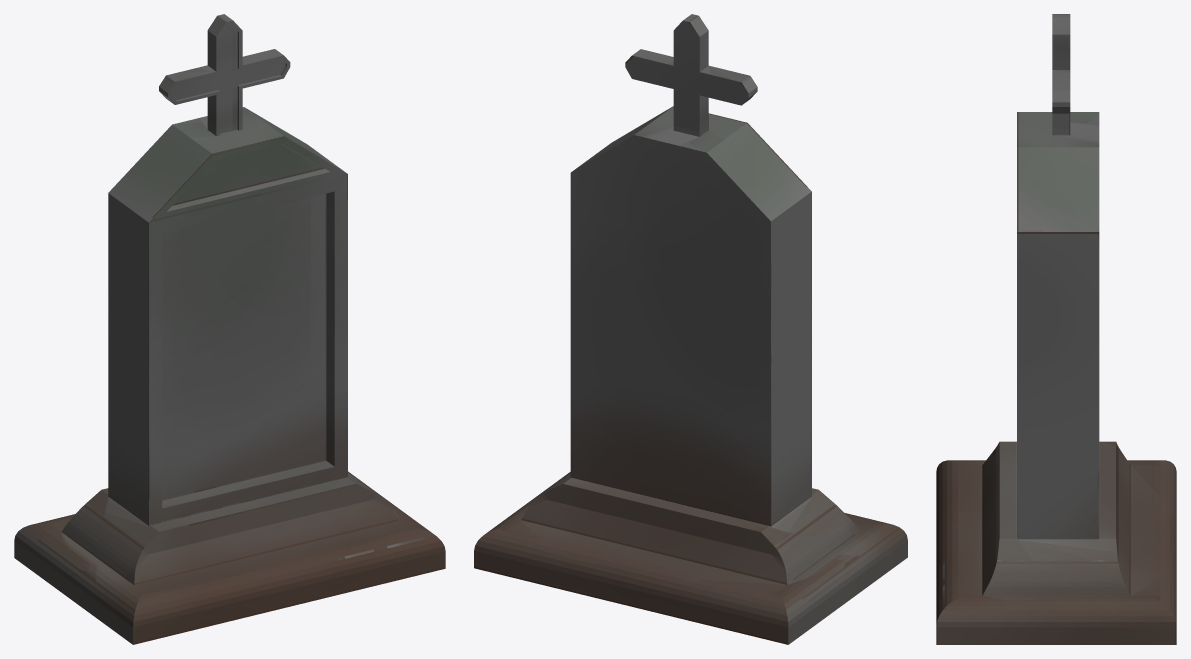
The model's file is tomb_3.fbx.
3 renders of one model, left to right at view 1: azimuth 30°, elevation 25°; view 2: azimuth 150°, elevation 25°; view 3: azimuth 270°, elevation 25°, orthographic.
Parts seen in each view (by area): view 1: Cube.005; view 2: Cube.005; view 3: Cube.005.
Part boxes in pixels (left/top/right/bottom): Cube.005: left=14, top=14, right=445, bottom=644; Cube.005: left=474, top=14, right=907, bottom=644; Cube.005: left=936, top=14, right=1176, bottom=644.
Size of the model in its own units: 1.06 by 1.77 by 0.7008.
1 material, 1 textured.
